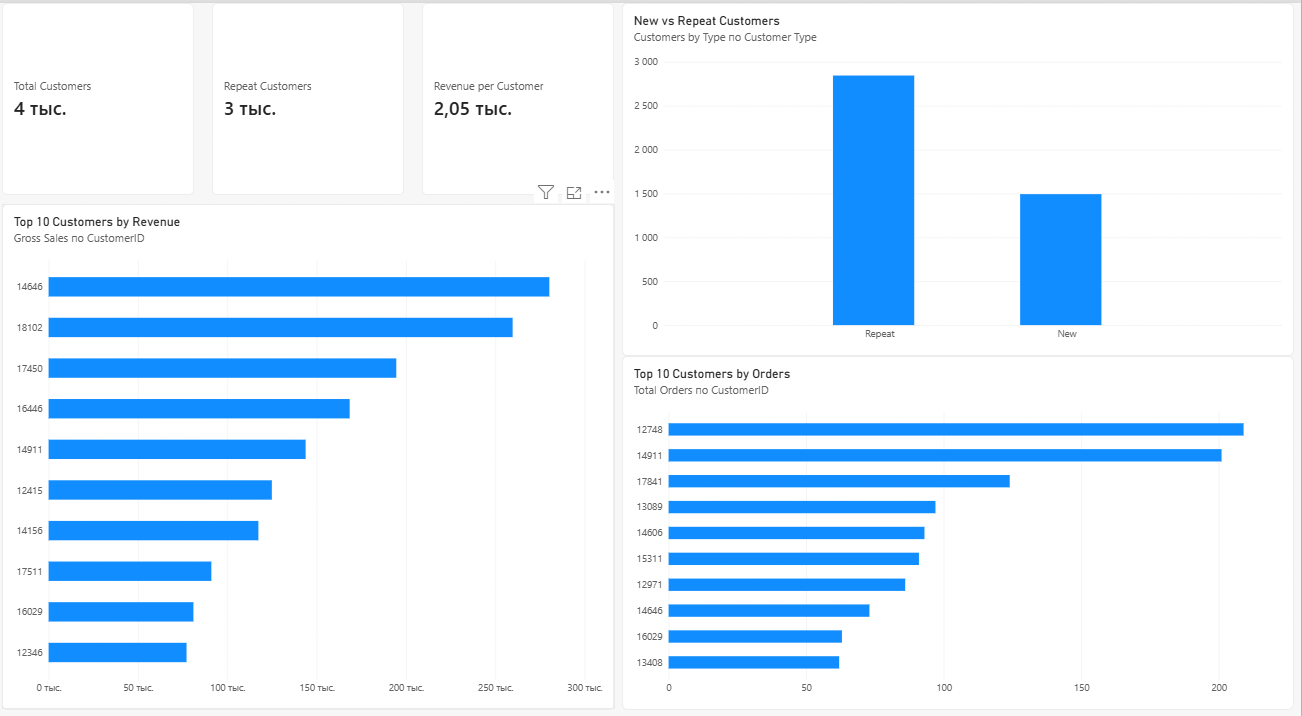

The dashboard page shown, as its layout file describes it:
{"tool":"powerbi","page":{"name":"Customer Analytics","canvas":[1920,1080],"ordinal":2},"visuals":[{"type":"cardVisual","fields":{"Data":["ABC Groups.Total Customers"]},"box":[25.4,0,280,280],"z":0},{"type":"cardVisual","fields":{"Data":["ABC Groups.Repeat Customers"]},"box":[331.6,0,280,280],"z":1000},{"type":"cardVisual","fields":{"Data":["ABC Groups.Revenue per Customer"]},"box":[637.7,0,280,280],"z":2000},{"type":"clusteredBarChart","title":"Top 10 Customers by Revenue","fields":{"Category":["Online Retail.CustomerID"],"Y":["Online Retail.Gross Sales"]},"box":[25.4,292.7,893.2,737.6],"z":3000},{"type":"columnChart","title":"New vs Repeat Customers","fields":{"Category":["Customer Groups.Customer Type"],"Y":["Customer Groups.Customers by Type"]},"box":[928.7,0,980.2,514.9],"z":4000},{"type":"barChart","title":"Top 10 Customers by Orders","fields":{"Category":["Online Retail.CustomerID"],"Y":["Online Retail.Total Orders"]},"box":[929,515,980,516],"z":5000}]}

Visuals, with their boxes in screenshot pixels (x1, y1, x2, y2), scaled from the page's 1920x1080 canvas onto the 1302x716 screenshot:
cardVisual - ABC Groups.Total Customers: detection(17, 0, 207, 186)
cardVisual - ABC Groups.Repeat Customers: detection(225, 0, 415, 186)
cardVisual - ABC Groups.Revenue per Customer: detection(432, 0, 622, 186)
"Top 10 Customers by Revenue" clusteredBarChart: detection(17, 194, 623, 683)
"New vs Repeat Customers" columnChart: detection(630, 0, 1294, 341)
"Top 10 Customers by Orders" barChart: detection(630, 341, 1295, 684)
